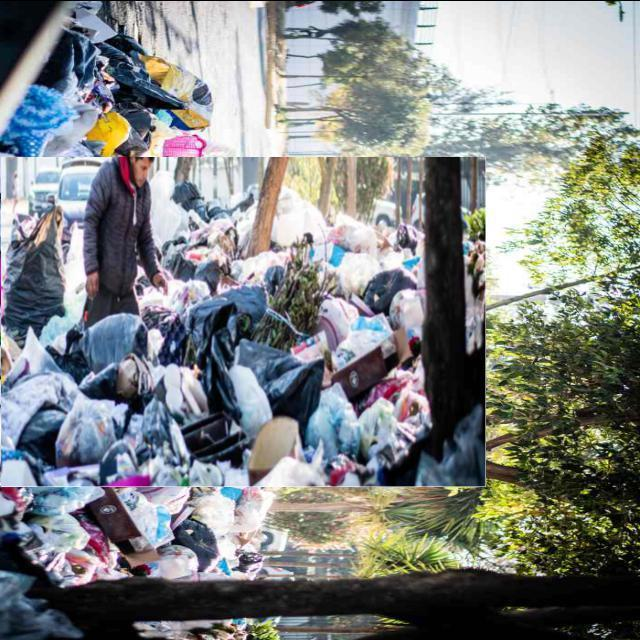Trashbag: (0, 212, 69, 340), (241, 345, 325, 418), (189, 287, 268, 341), (139, 299, 193, 368), (362, 268, 418, 317)
